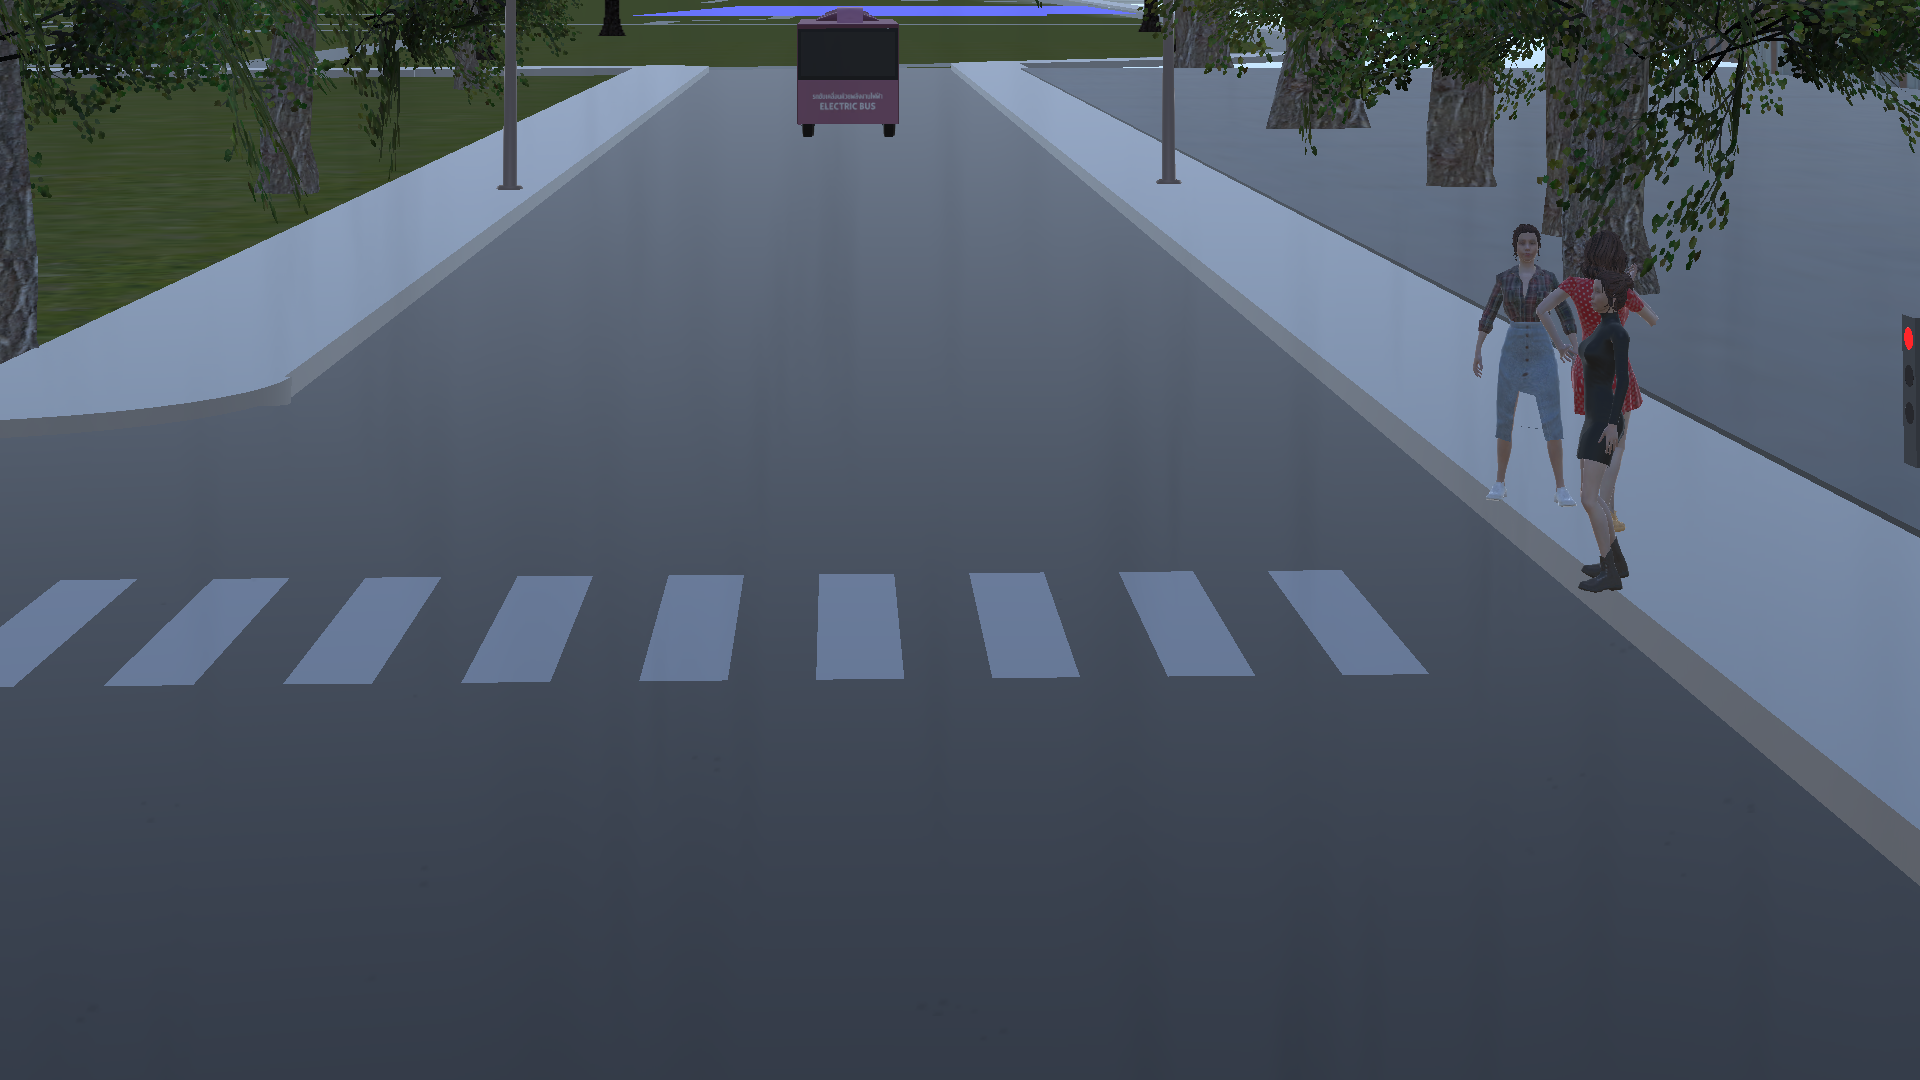pedestrian: (1457, 215, 1579, 524), (1569, 282, 1644, 603), (1568, 211, 1654, 418)
